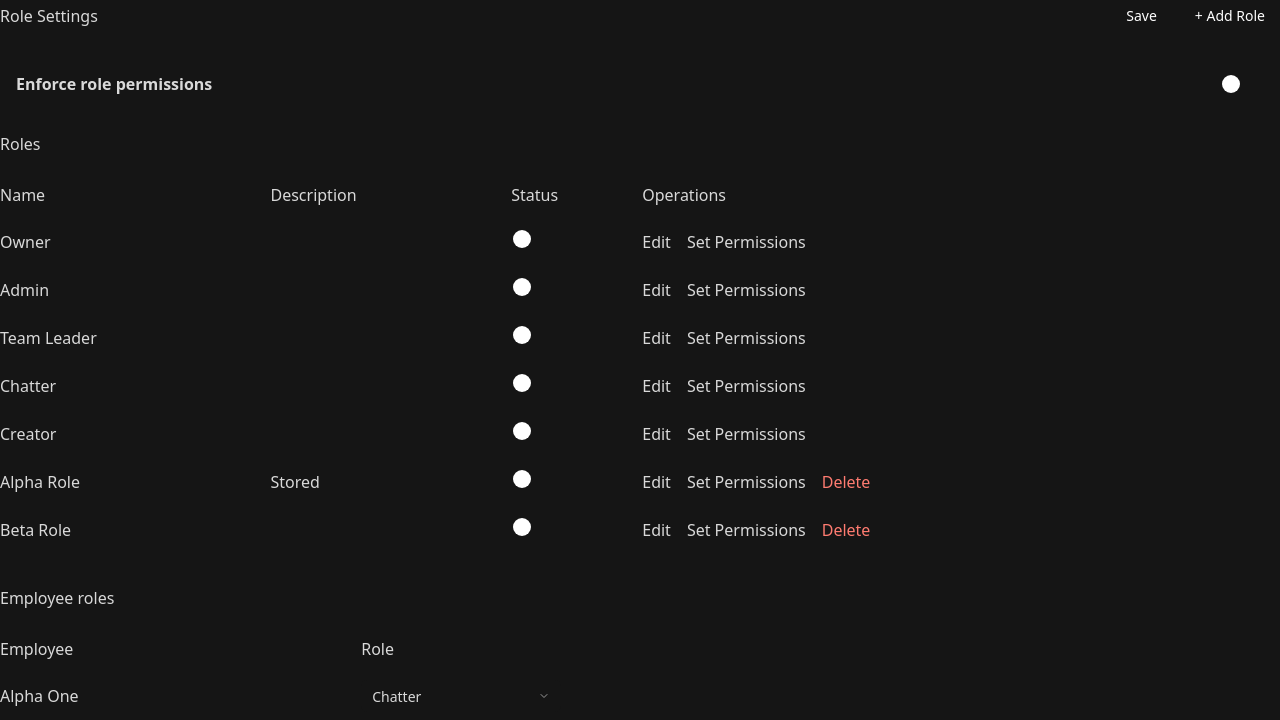
Test: RoleSettingsTab › Edit on a stored custom role is pre-filled; a new name and description Submit as one PUT, the role kept in place with its id
Expected: the button "+ Add Role" is enabled, [1180,0,1279,32]
Click the button "Edit" in the row of "Alpha Role": (656, 482) [642,470,671,494]
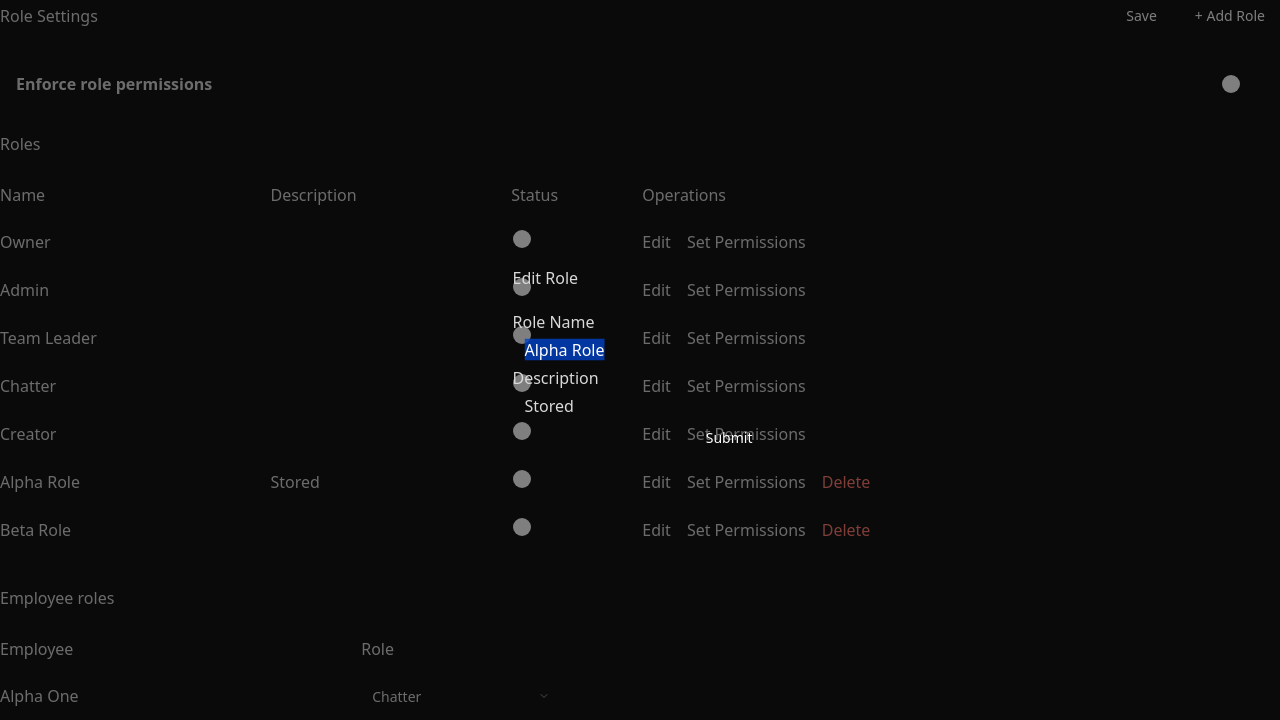
Expected: the field labelled "Role Name" holds "Alpha Role"
Expected: the field labelled "Role Name" is enabled
Expected: the field labelled "Description" holds "Stored", [512,390,768,422]
Replace the text in the field labelled "Role Name" with "Gamma Three": (640, 350) [512,334,768,366]
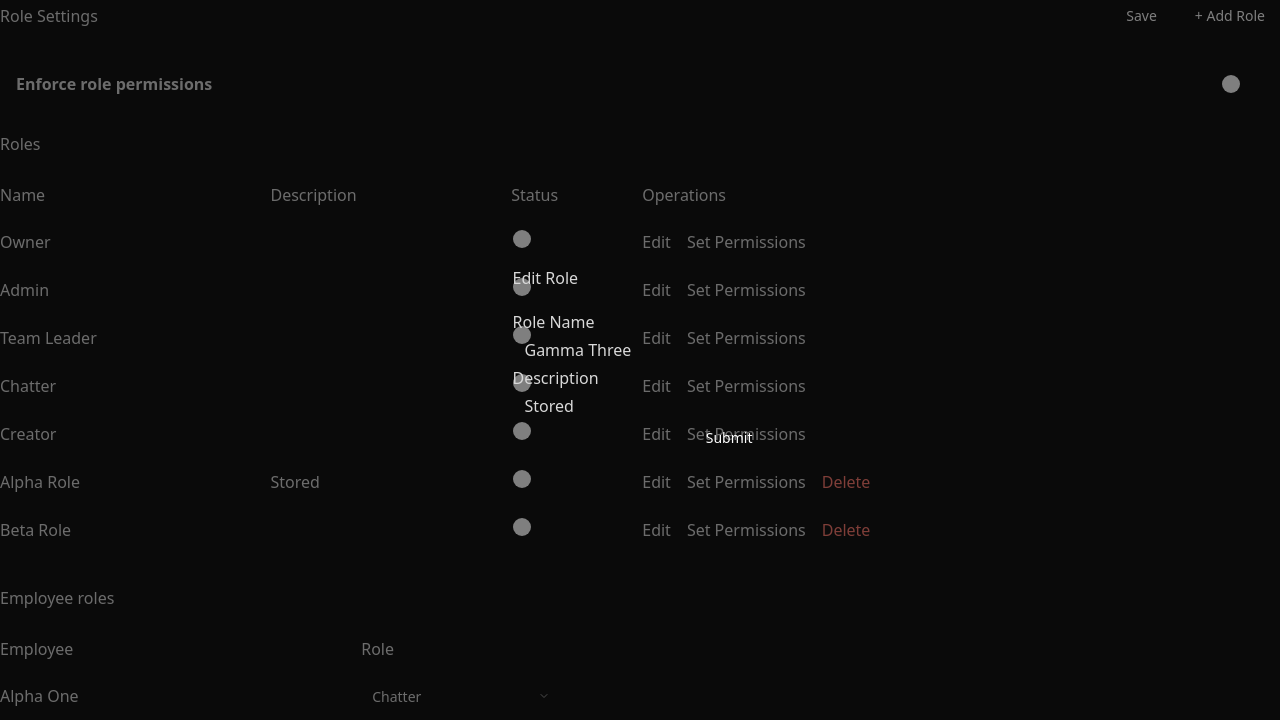
Replace the text in the field labelled "Description" with "Renamed": (640, 406) [512,390,768,422]
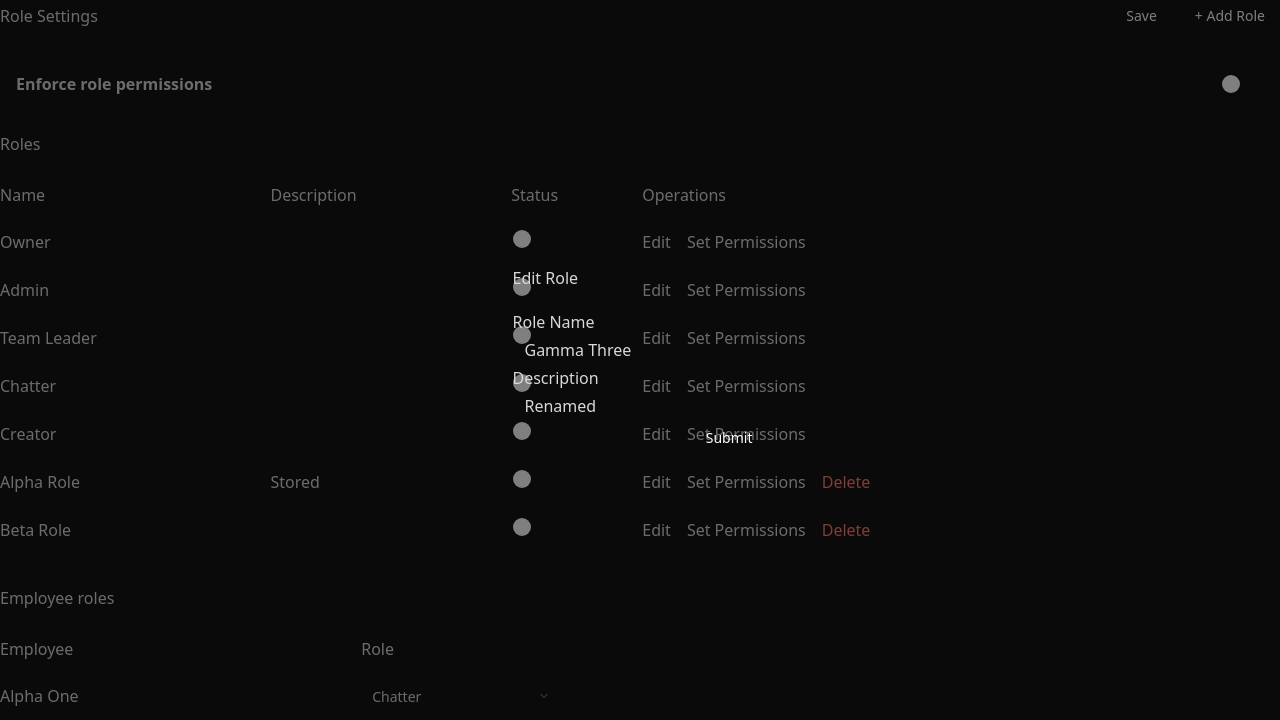
Click the button "Submit": (729, 438) [691,422,768,454]
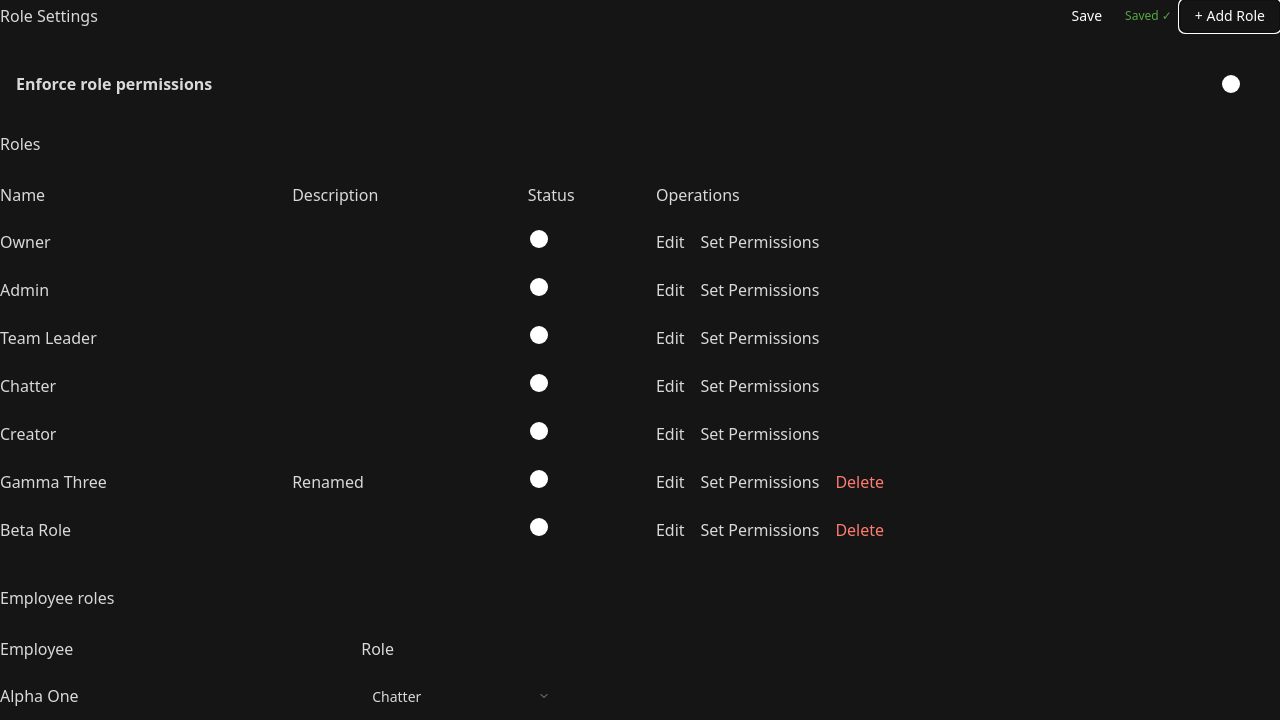
Expected: the dialog is gone
